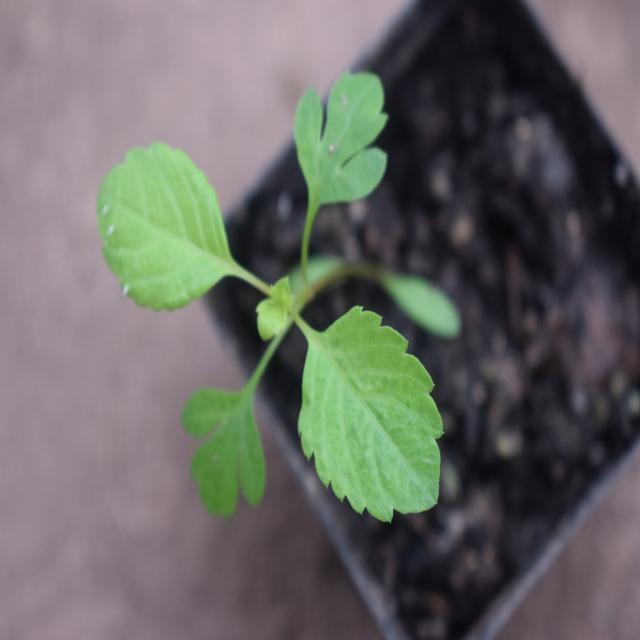Bidens pilosa: (85, 65, 450, 546)
